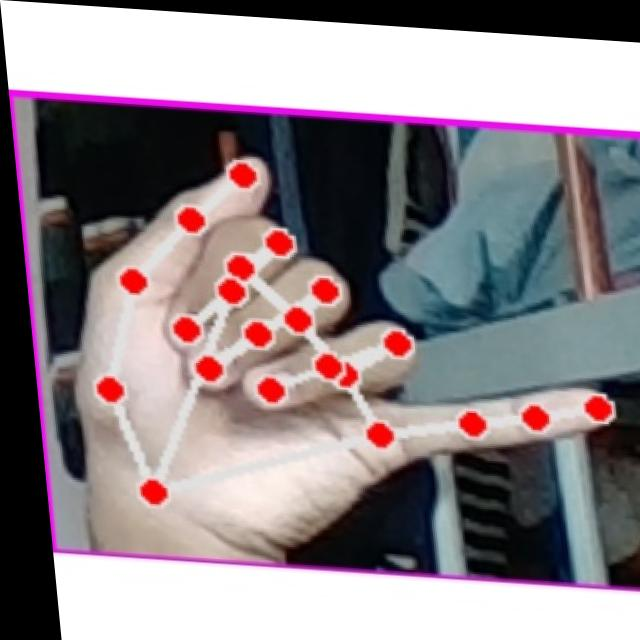J: (23, 131, 639, 566)
